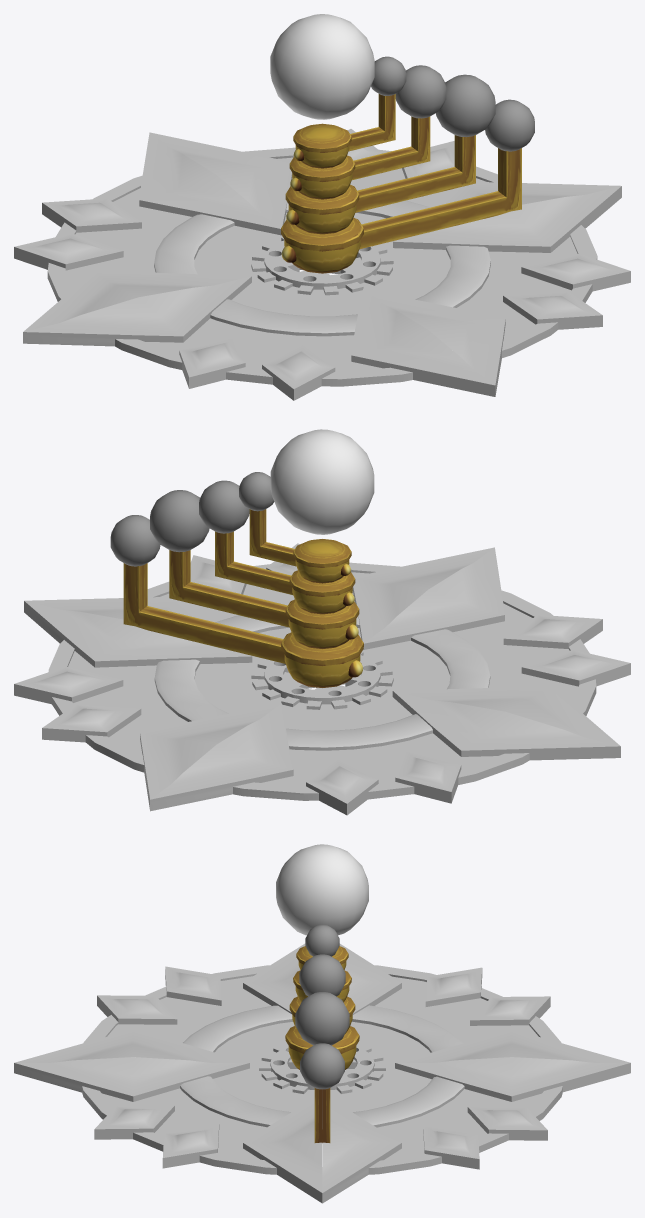
File: obj_planeet_puzzel.FBX
3 renders of one model, top to bottom at view 1: azimuth 30°, elevation 25°; view 2: azimuth 150°, elevation 25°; view 3: azimuth 270°, elevation 25°, orthographic. The views are drawn at different scales.
Parts seen in each view (by area): view 1: Plane131, Plane130, Plane132, Plane129, obj_planet_puzzle_4, obj_planeet_puzzel_versie_daan_wilt_dood, obj_planet_puzzle_3, obj_planet_puzzle_2, obj_planet_puzzle_1; view 2: Plane132, Plane129, Plane131, Plane130, obj_planet_puzzle_4, obj_planeet_puzzel_versie_daan_wilt_dood, obj_planet_puzzle_3, obj_planet_puzzle_2, obj_planet_puzzle_1; view 3: Plane130, Plane129, Plane131, Plane132, obj_planeet_puzzel_versie_daan_wilt_dood, obj_planet_puzzle_4, obj_planet_puzzle_3, obj_planet_puzzle_2, obj_planet_puzzle_1.
Boxes of the visible parts, left/top/right/bottom form: Plane131: left=23, top=267, right=495, bottom=400; Plane130: left=328, top=186, right=630, bottom=396; Plane132: left=14, top=132, right=303, bottom=331; Plane129: left=150, top=129, right=620, bottom=257; obj_planet_puzzle_4: left=281, top=99, right=534, bottom=273; obj_planeet_puzzel_versie_daan_wilt_dood: left=270, top=14, right=374, bottom=119; obj_planet_puzzle_3: left=285, top=74, right=495, bottom=234; obj_planet_puzzle_2: left=289, top=65, right=446, bottom=199; obj_planet_puzzle_1: left=293, top=56, right=406, bottom=168; Plane132: left=150, top=682, right=620, bottom=815; Plane129: left=14, top=601, right=316, bottom=808; Plane131: left=341, top=547, right=630, bottom=746; Plane130: left=24, top=543, right=494, bottom=672; obj_planet_puzzle_4: left=110, top=515, right=363, bottom=687; obj_planeet_puzzel_versie_daan_wilt_dood: left=270, top=429, right=374, bottom=534; obj_planet_puzzle_3: left=150, top=490, right=359, bottom=648; obj_planet_puzzle_2: left=199, top=480, right=355, bottom=614; obj_planet_puzzle_1: left=239, top=472, right=351, bottom=583; Plane130: left=14, top=1057, right=322, bottom=1202; Plane129: left=322, top=1057, right=630, bottom=1203; Plane131: left=14, top=943, right=305, bottom=1068; Plane132: left=339, top=943, right=630, bottom=1068; obj_planeet_puzzel_versie_daan_wilt_dood: left=276, top=844, right=368, bottom=935; obj_planet_puzzle_4: left=285, top=1026, right=359, bottom=1142; obj_planet_puzzle_3: left=289, top=992, right=355, bottom=1045; obj_planet_puzzle_2: left=293, top=954, right=351, bottom=1002; obj_planet_puzzle_1: left=296, top=924, right=348, bottom=970.
Size of the model in its own units: 32.66 by 13.12 by 32.66.
